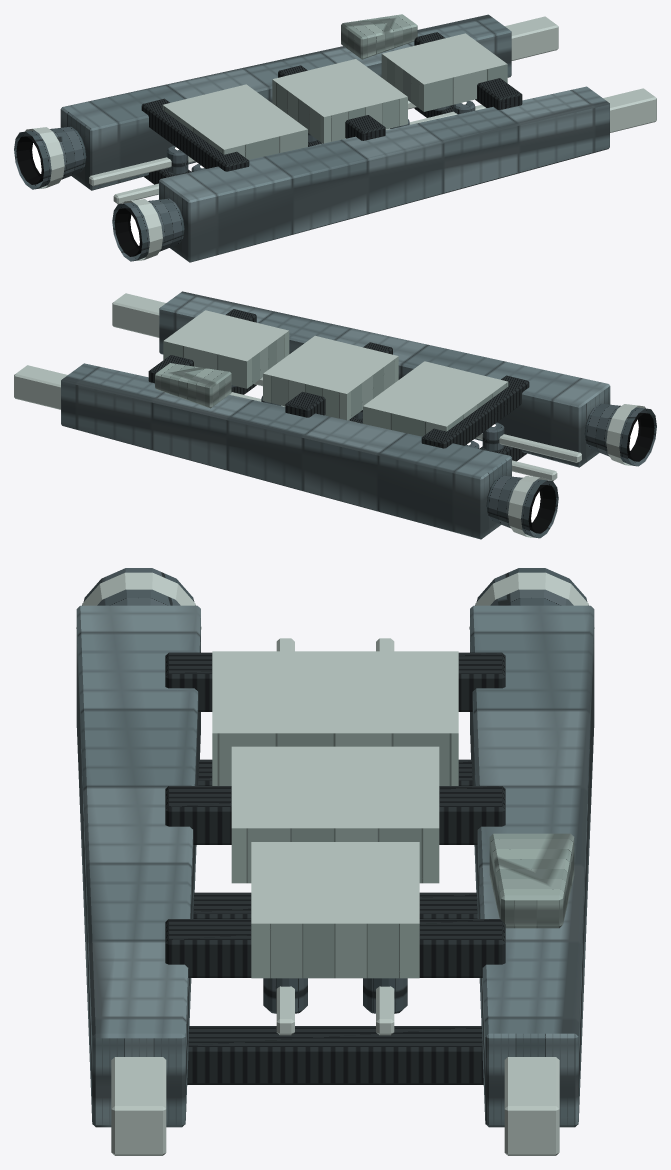
The model's file is minelayer.glb.
The picture shows the model from 3 angles, top to bottom: view 1: azimuth 30°, elevation 25°; view 2: azimuth 150°, elevation 25°; view 3: azimuth 270°, elevation 25°; orthographic projection. The views are drawn at different scales.
Visible parts, largest first — view 1: minelayer; view 2: minelayer; view 3: minelayer.
Boxes of the visible parts, bbox=[...] form: minelayer: bbox=[14, 14, 656, 262]; minelayer: bbox=[14, 291, 656, 539]; minelayer: bbox=[76, 568, 594, 1155].
Size of the model in its own units: 26 by 4.17 by 11.14.
1 material, 1 textured.
